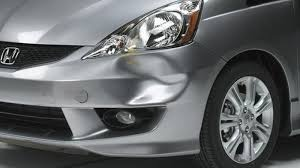Dent: (104, 53, 189, 106)
